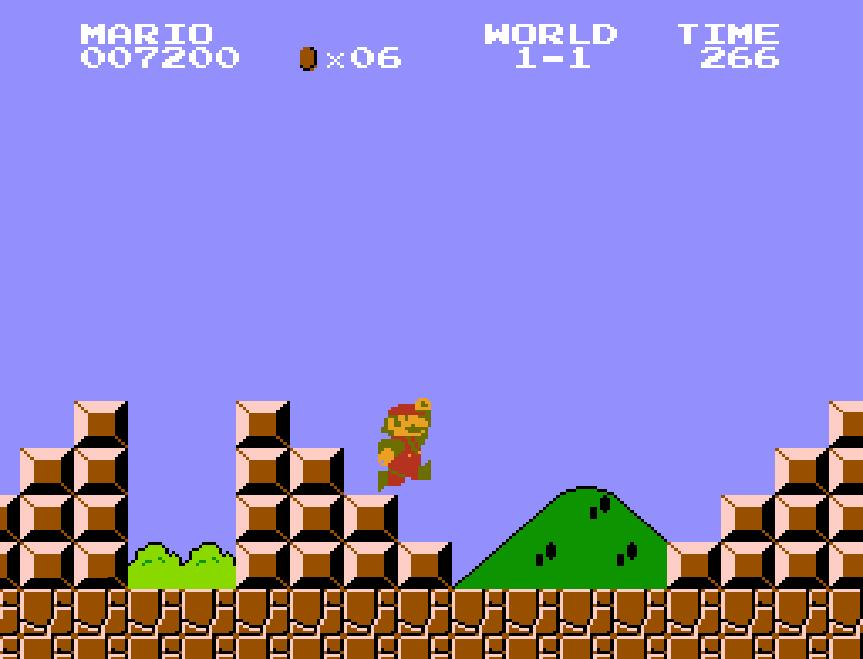big_mario: (376, 396, 434, 494)
